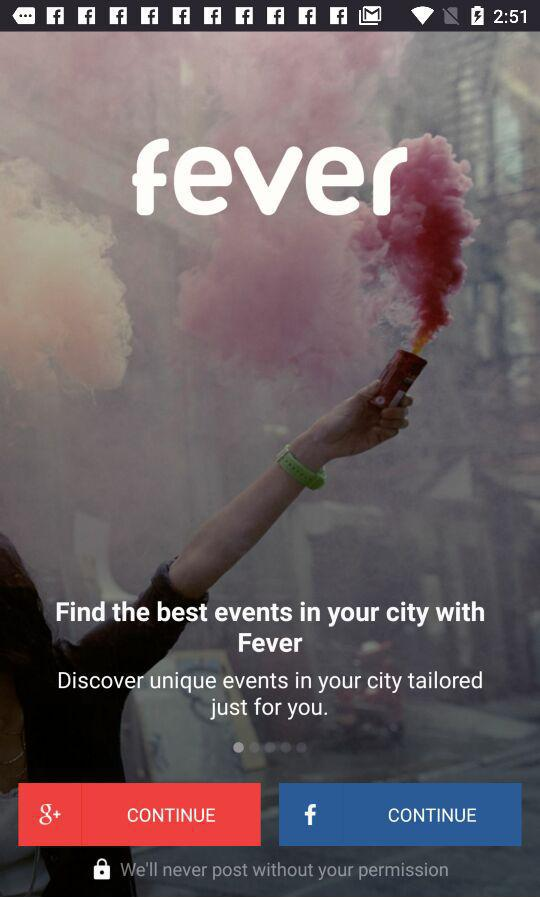BackgroundImage: (1, 33, 540, 897)
Icon: (94, 858, 111, 879)
PageIndicator: (233, 740, 309, 755)
Text: (56, 600, 489, 654), (59, 670, 485, 722), (131, 138, 409, 217), (120, 860, 449, 880)
TextButton: (18, 783, 263, 847), (279, 783, 522, 846)
UpperTaskBar: (1, 1, 540, 33)
